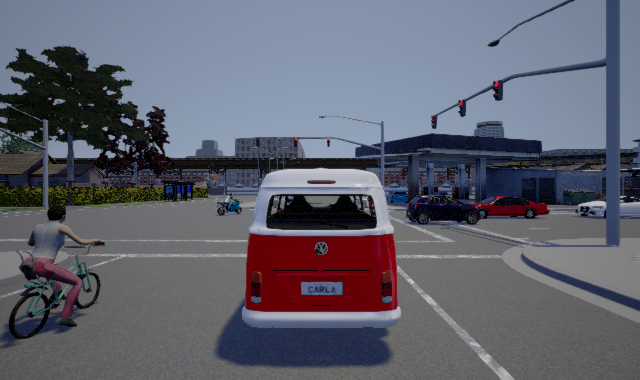bike: (4, 198, 112, 340)
motobike: (215, 191, 244, 217)
traffic_light: (493, 80, 503, 101), (458, 99, 466, 117), (431, 115, 437, 129), (256, 137, 260, 147), (327, 137, 330, 147), (294, 137, 297, 147)
vehicle: (242, 165, 402, 328), (404, 192, 480, 226), (472, 195, 554, 219), (575, 193, 640, 218)
